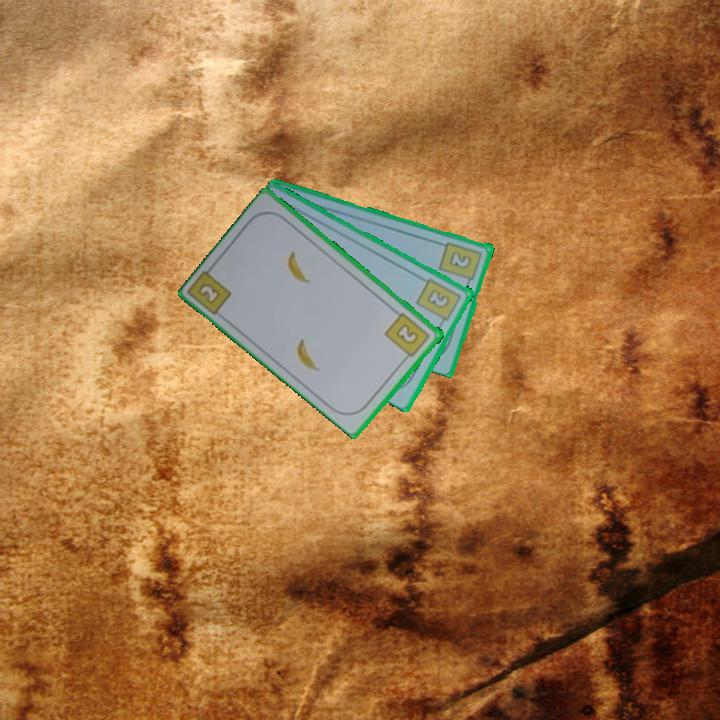2b: (382, 309, 433, 363), (413, 275, 464, 328), (436, 238, 485, 288), (197, 282, 221, 305)
